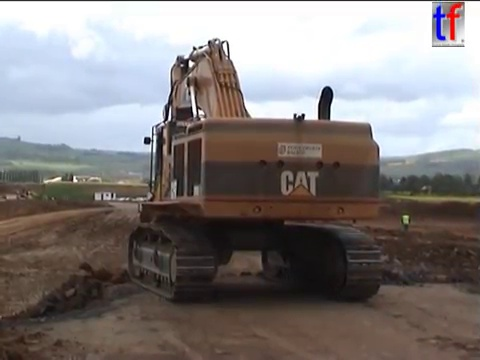excavator: (122, 35, 385, 305), (11, 185, 41, 203)
worker: (398, 208, 413, 233)
